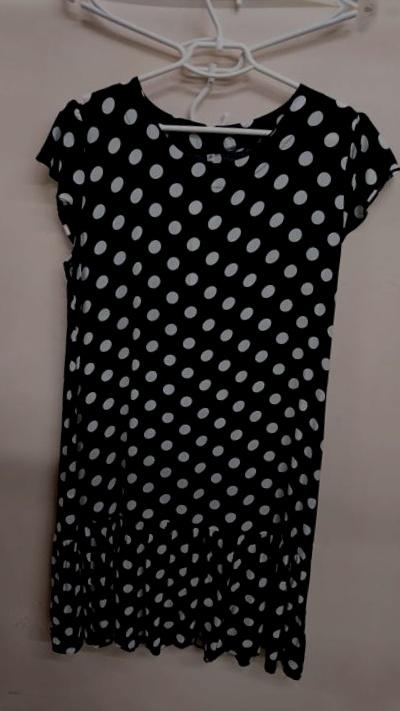Dress: (0, 37, 400, 695), (369, 72, 400, 711)
